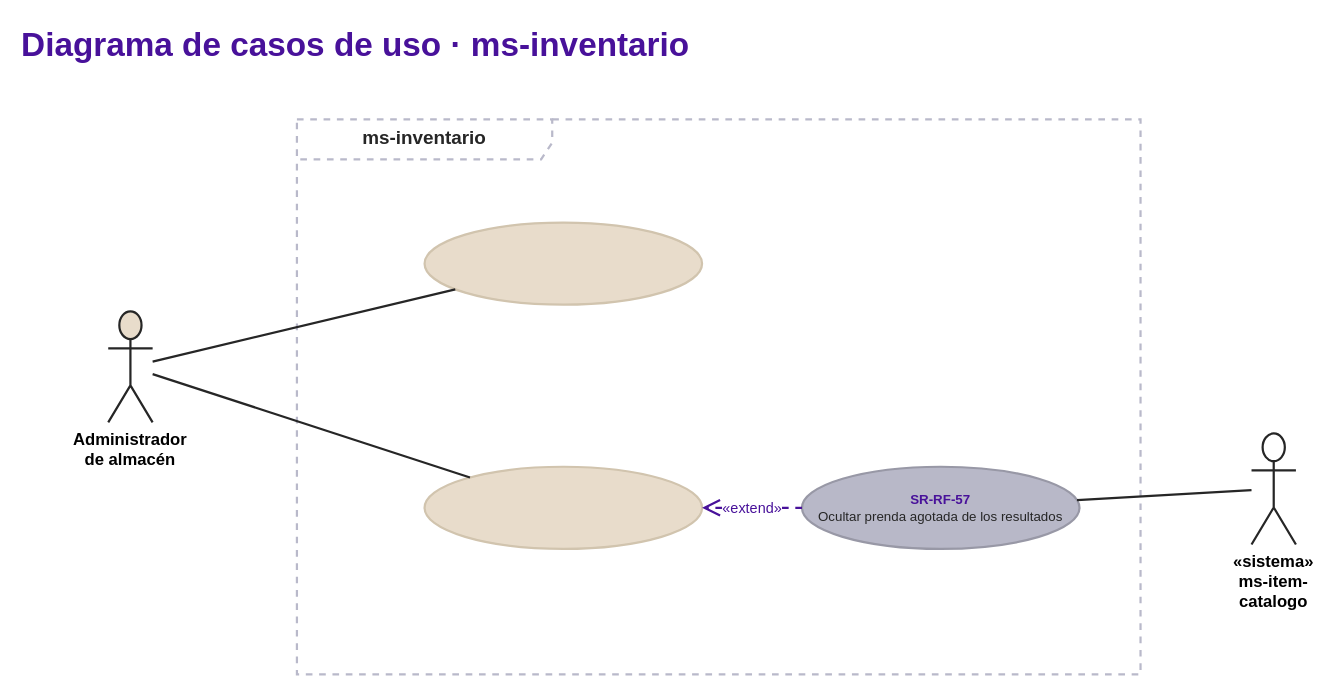
This 1332x694 diagram has some shape labels left out. The centre of each missing label's shape, as x and y in pixels:
"SR-RF-52 Registrar tallas disponibles de una prenda" goes at pixel 563 263.
"SR-RF-56 Actualizar disponibilidad por talla" goes at pixel 563 507.
